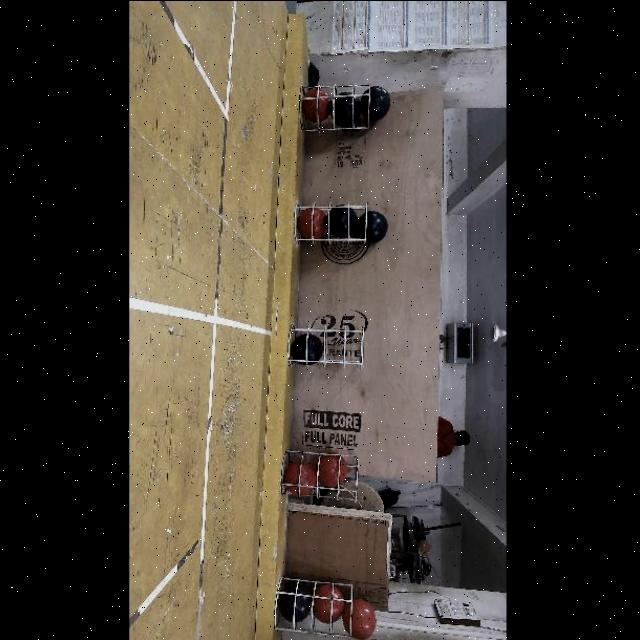P: (278, 586, 312, 620), (360, 83, 390, 119), (356, 211, 388, 243), (290, 333, 322, 363), (326, 204, 356, 236), (332, 94, 361, 126)
R: (341, 599, 377, 639), (313, 584, 343, 622), (286, 461, 318, 494), (317, 452, 347, 486), (303, 86, 331, 122), (298, 208, 326, 236)
S: (270, 570, 358, 640), (284, 446, 366, 499), (302, 78, 374, 132), (290, 319, 370, 366), (294, 200, 372, 247)
